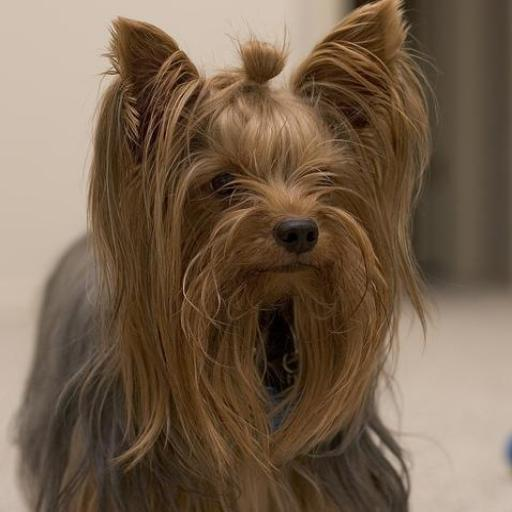dog_face: (109, 11, 422, 297)
